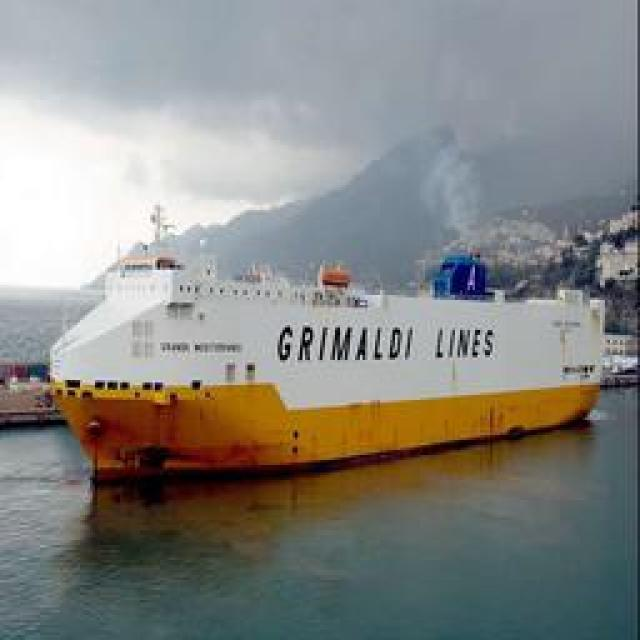CIV_Ship: (54, 204, 596, 486)
